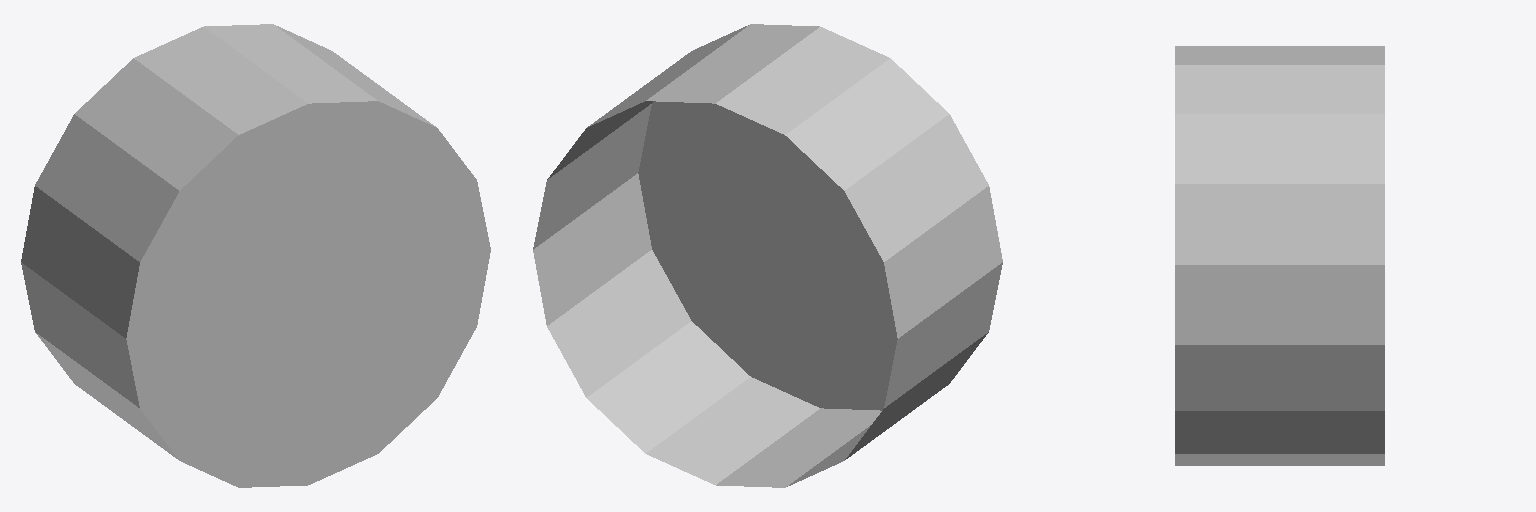
File: vive_teleporter.obj
The picture shows the model from 3 angles: view 1: azimuth 30°, elevation 25°; view 2: azimuth 150°, elevation 25°; view 3: azimuth 270°, elevation 25°; orthographic projection.
Visible parts, largest first — view 1: Circle; view 2: Circle; view 3: Circle.
Part boxes in pixels (x1,y1,x2,y2): Circle: (21, 24, 490, 487); Circle: (533, 24, 1002, 487); Circle: (1175, 46, 1384, 465).
Size of the model in its own units: 2 by 2 by 1.